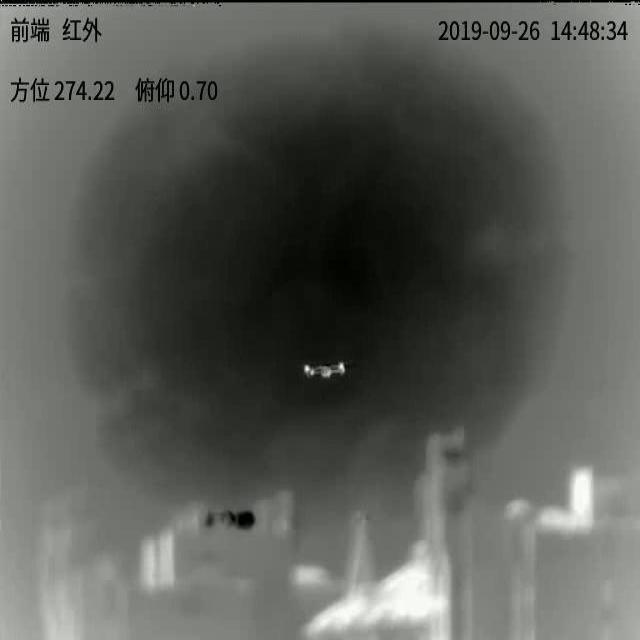drone: (304, 362, 346, 378)
